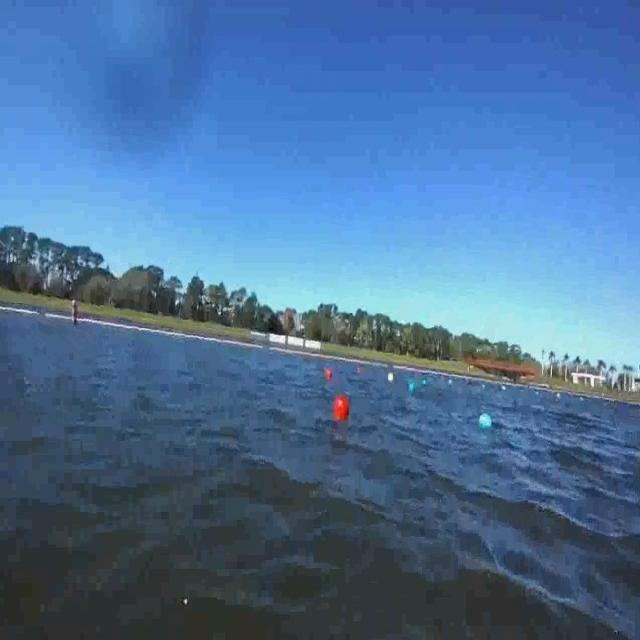green-buoy: (479, 412, 493, 432)
red-buoy: (335, 396, 351, 421), (322, 366, 334, 386)
yellow-buoy: (386, 371, 395, 385)
